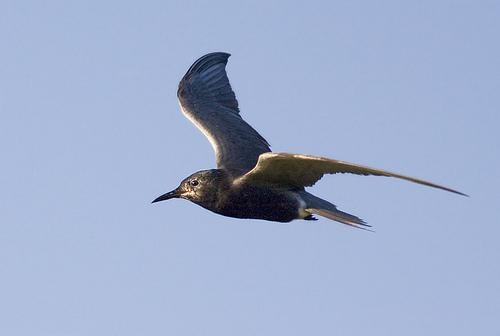bird: (149, 47, 472, 234)
